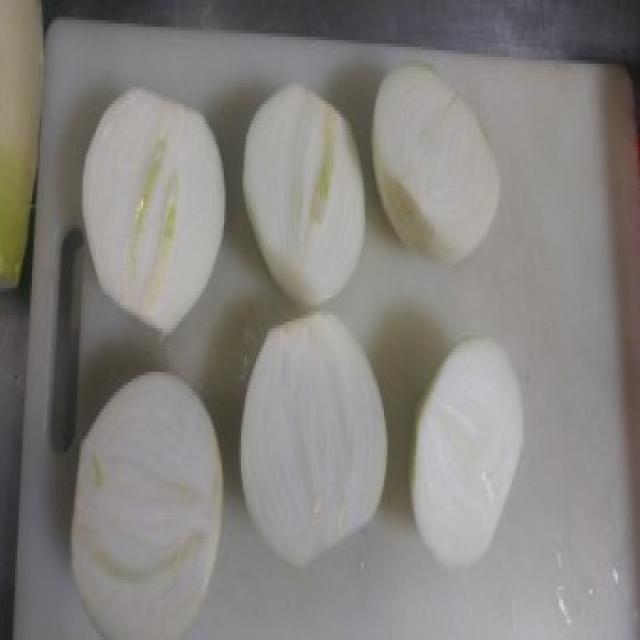onion: (231, 312, 393, 582), (66, 367, 222, 640), (74, 79, 235, 342), (404, 320, 530, 590), (238, 80, 370, 308), (368, 58, 500, 284)
